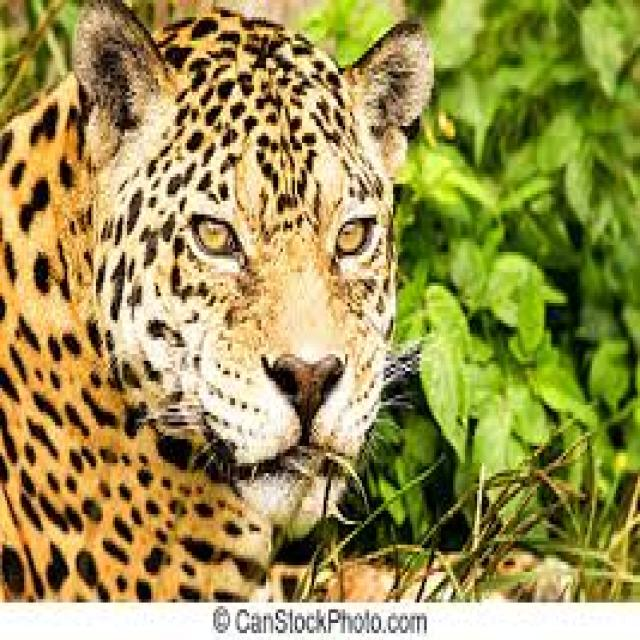Jaguar: (19, 17, 448, 613)
